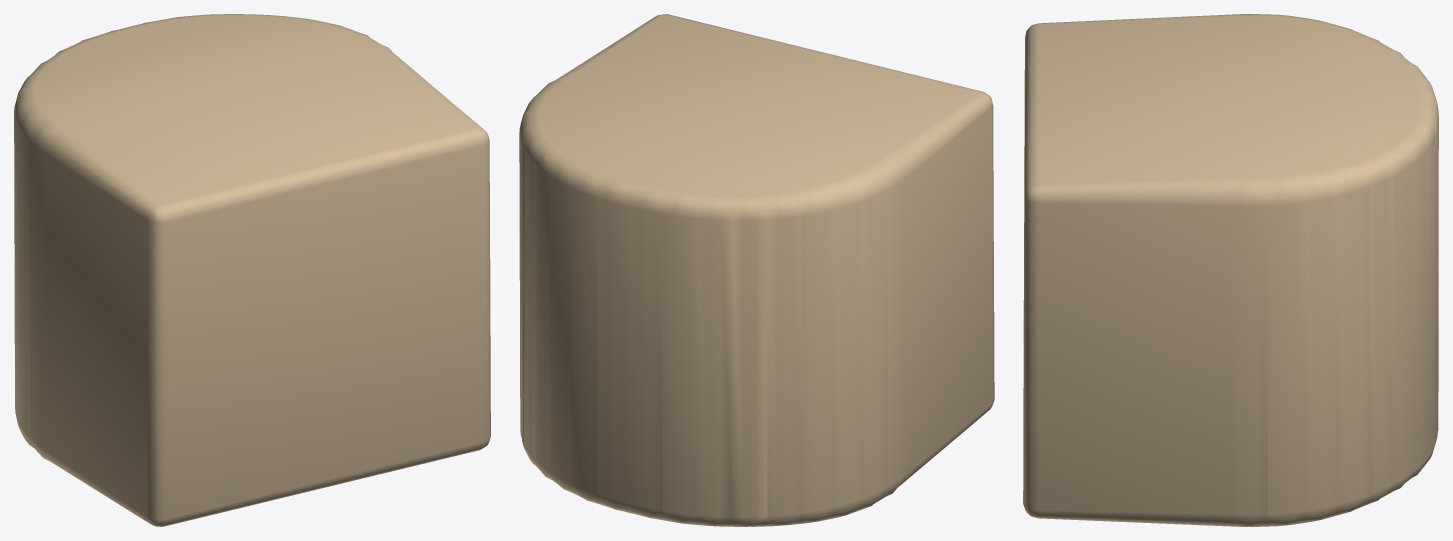
File: KOPFSTEIN.glb
The picture shows the model from 3 angles, left to right: view 1: azimuth 30°, elevation 25°; view 2: azimuth 150°, elevation 25°; view 3: azimuth 270°, elevation 25°; orthographic projection. The views are drawn at different scales.
Visible parts, largest first — view 1: KOPFSTEIN; view 2: KOPFSTEIN; view 3: KOPFSTEIN.
Part boxes in pixels (x1,y1,x2,y2): KOPFSTEIN: (14,14,490,526); KOPFSTEIN: (519,14,994,526); KOPFSTEIN: (1023,14,1438,526).
Size of the model in its own units: 0.8183 by 0.7383 by 0.7965.
